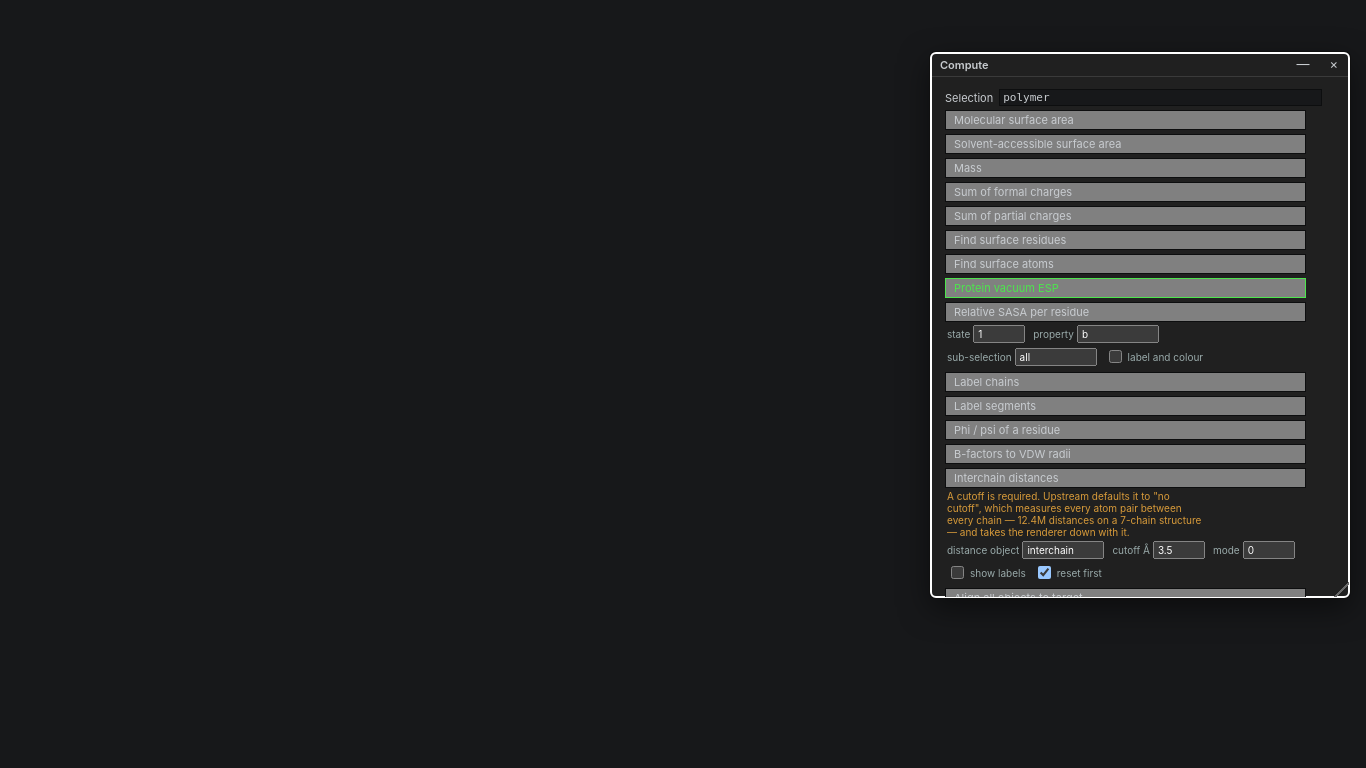
Test case: the destructive helper (row 503) › confirms, runs, and shows what PyMOL printed next to the button
The image size is (1366, 768).
What coordinates should you click on to do the following:
click the button "Protein vacuum ESP"
I would click on:
 (1006, 288)
Its box is [945,278,1306,298].
(page scrolled)
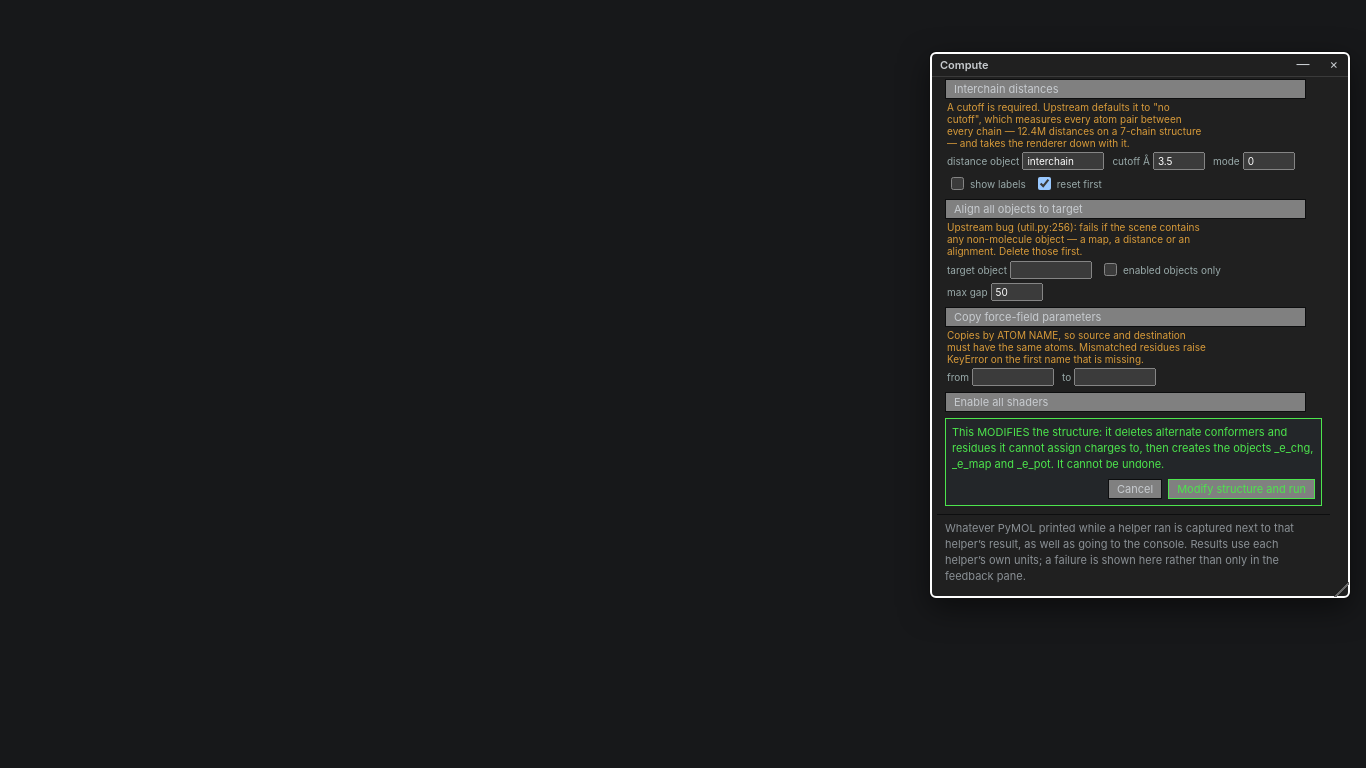
Result: the dialog shows "MODIFIES the structure" at [952,425,1313,471]
What coordinates should you click on to do the following:
click the button "Modify structure and run"
I would click on:
 (1242, 489)
Its box is [1168,479,1315,499].
Wait 810 ms
(page scrolled)
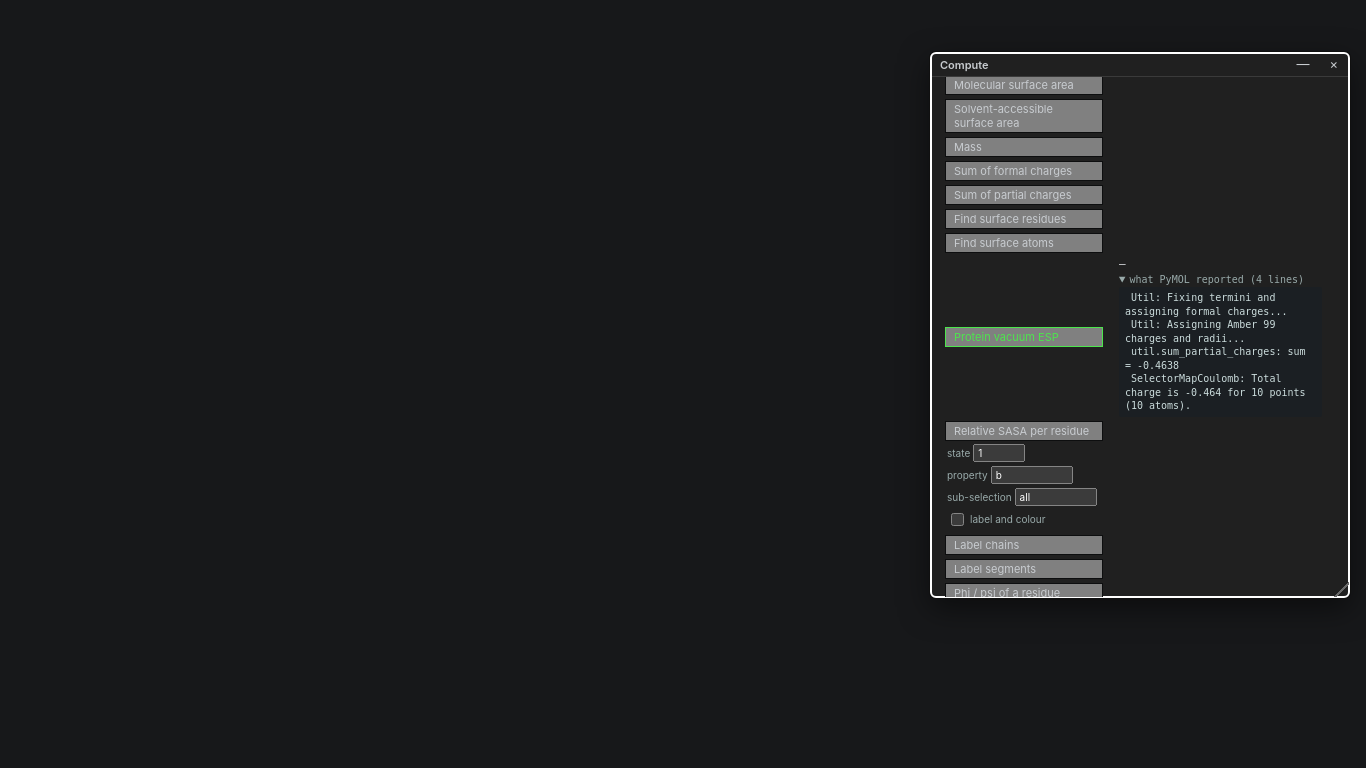
Result: the element that starts with "what PyMOL reported (" is shown at [1119,274,1322,416]
Result: the heading "what PyMOL reported (4 lines)" is shown at [1119,274,1322,285]
Result: the text "Util: Fixing termini and assigning formal charges..." is shown at [1125,292,1312,411]
